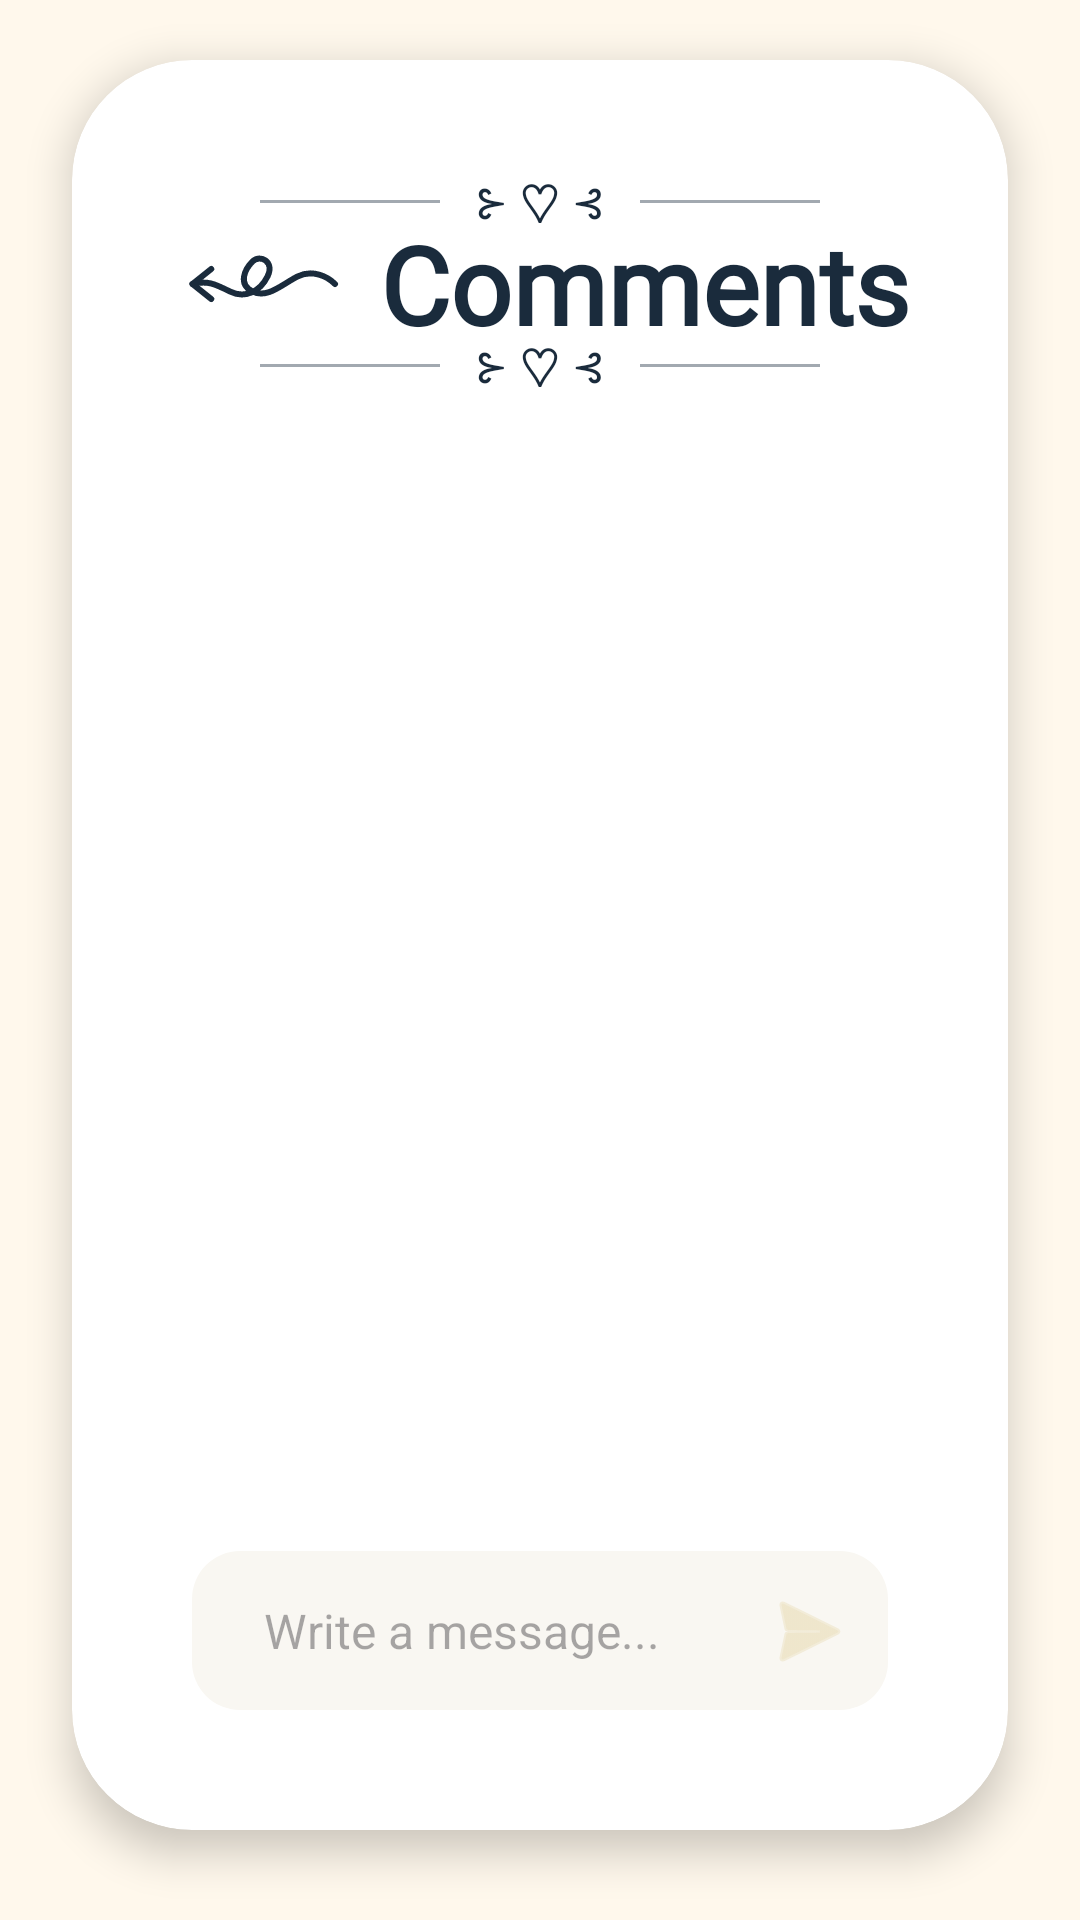

Where to tap for icons on this 1080×1920 app screen, as (x,y):
Back: (263,278)
send: (810,1631)
